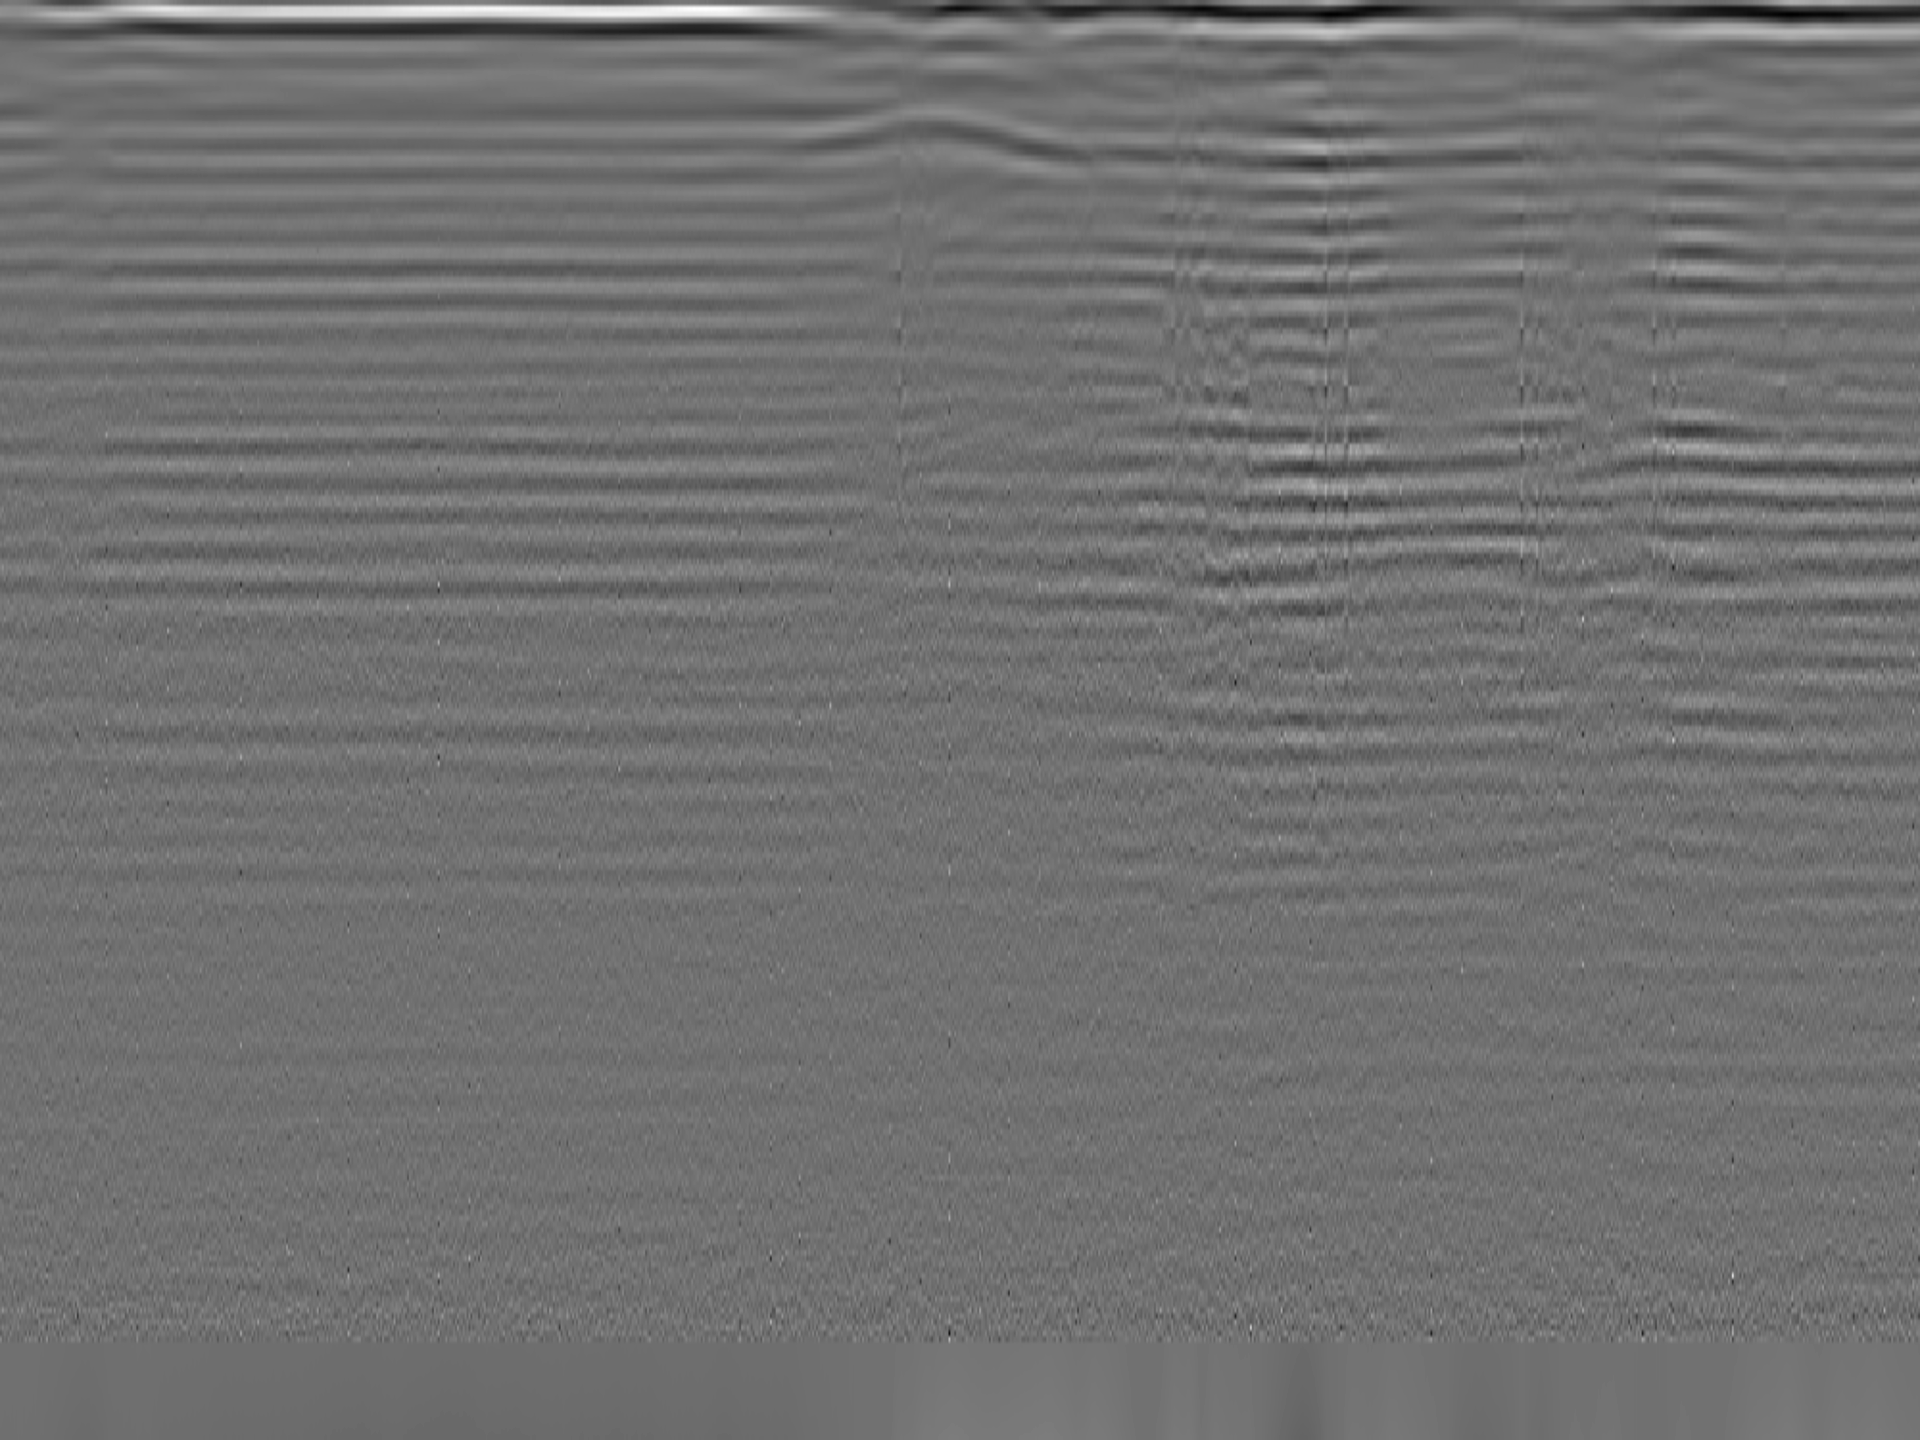Tunnel: (794, 104, 1104, 172)
